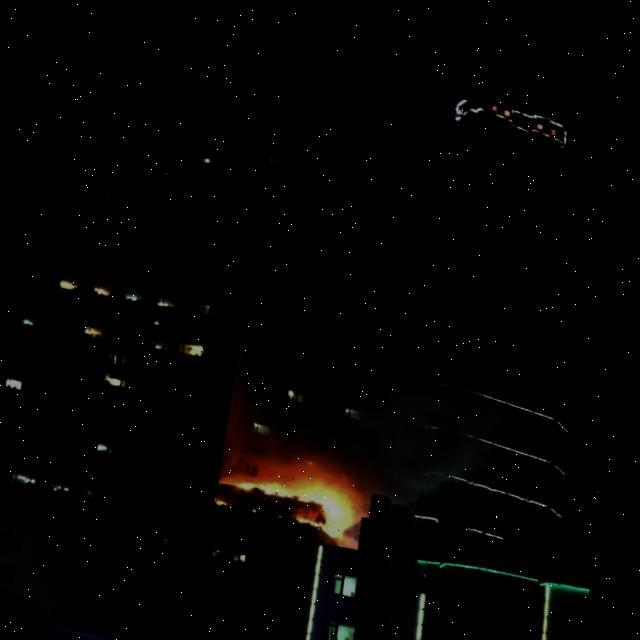Fire: (227, 442, 371, 526)
